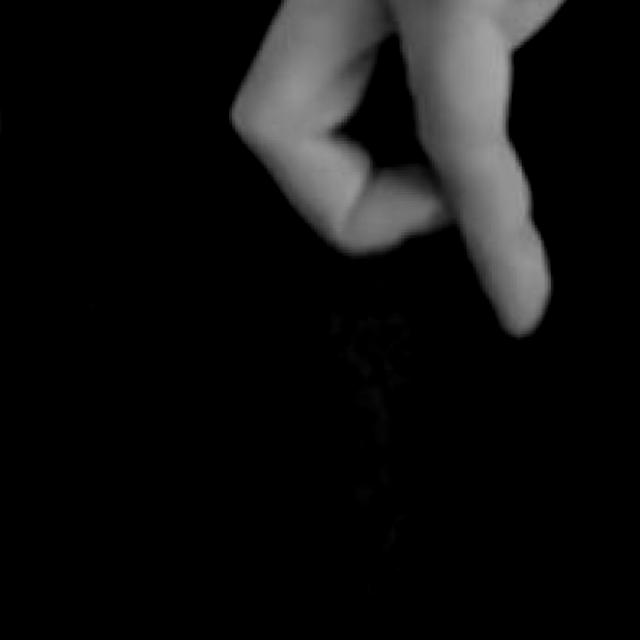P: (214, 0, 593, 355)
